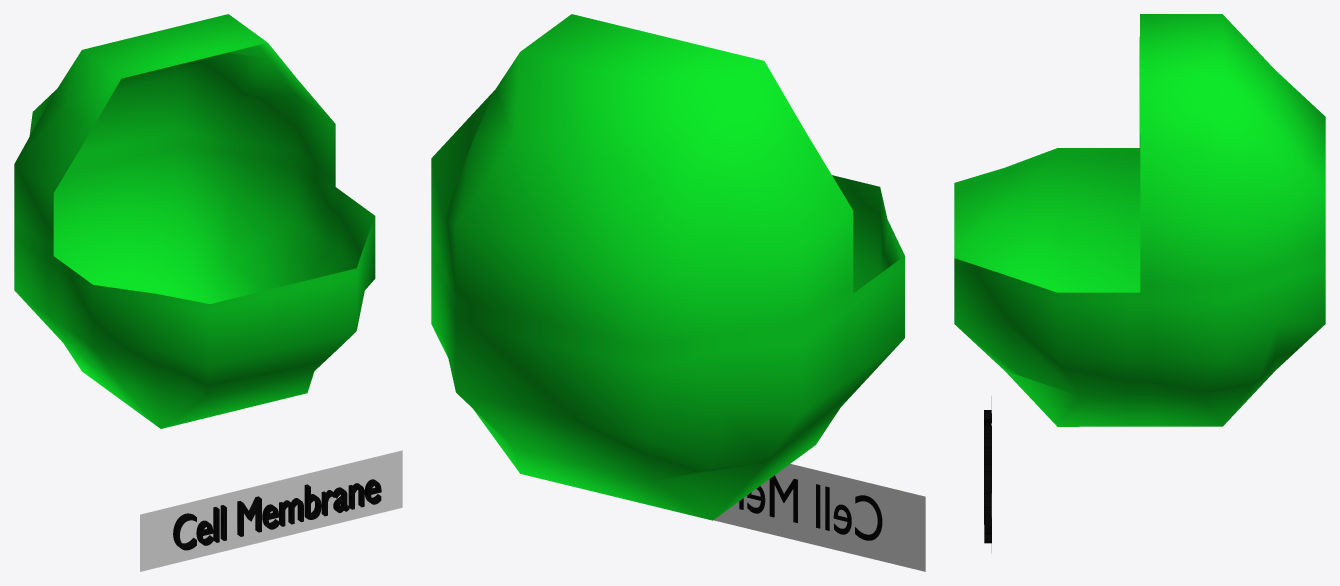
Rendered from cellmembrane.gltf.
3 renders of one model, left to right at view 1: azimuth 30°, elevation 25°; view 2: azimuth 150°, elevation 25°; view 3: azimuth 270°, elevation 25°, orthographic. The views are drawn at different scales.
Parts seen in each view (by area): view 1: Outside.001, Plane.002, Text.004; view 2: Outside.001, Plane.002, Text.004; view 3: Outside.001, Text.004.
Part boxes in pixels (left/top/right/bottom): Outside.001: left=14, top=14, right=375, bottom=428; Plane.002: left=140, top=450, right=402, bottom=571; Text.004: left=173, top=479, right=381, bottom=550; Outside.001: left=431, top=14, right=904, bottom=520; Plane.002: left=714, top=464, right=925, bottom=571; Text.004: left=739, top=475, right=882, bottom=540; Outside.001: left=954, top=14, right=1325, bottom=426; Text.004: left=984, top=410, right=991, bottom=543.
Size of the model in its own units: 1.01 by 1.46 by 1.1.
